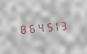eight: (17, 22, 24, 35)
five: (42, 20, 49, 33)
four: (34, 20, 41, 34)
one: (50, 19, 57, 32)
six: (25, 21, 32, 34)
three: (58, 18, 65, 32)
